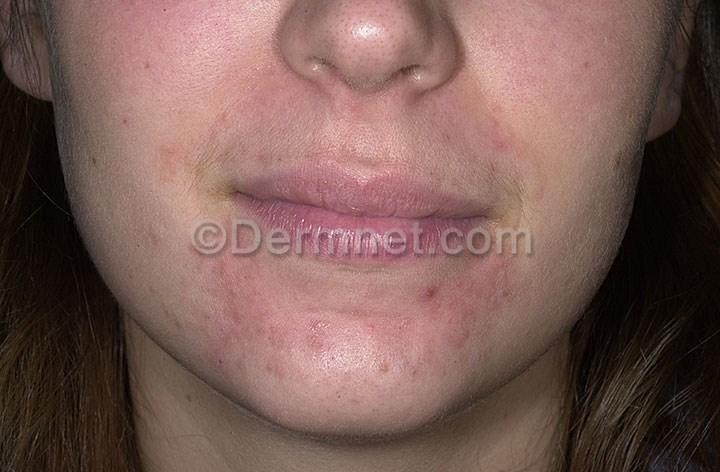Acne: (417, 281, 461, 315), (601, 146, 636, 175)
